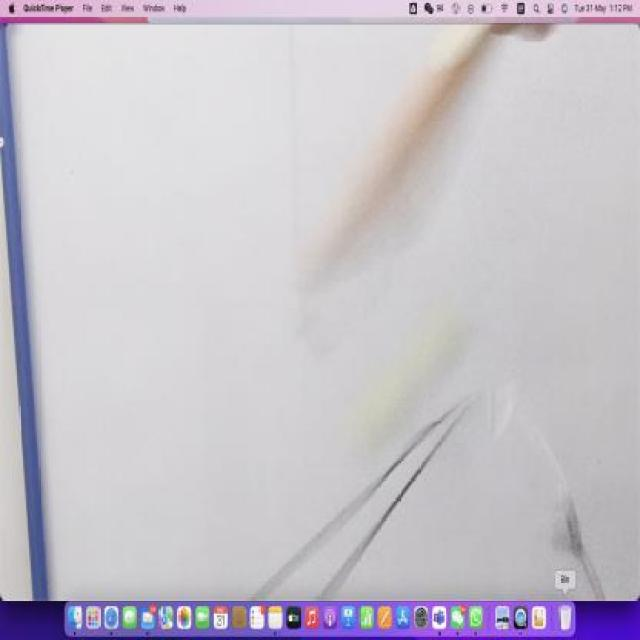baseball: (346, 323, 476, 457)
